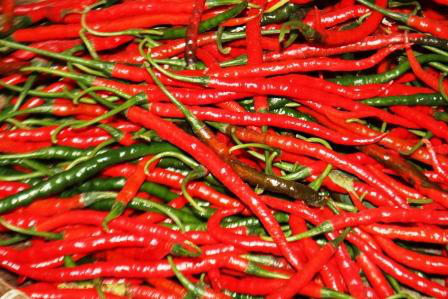Cabai: (140, 40, 321, 245)
